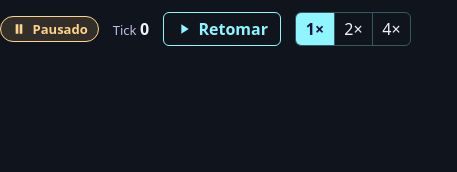
it: TimeControls › retomar e pausar pelo botão atuam no relógio, e a interface acompanha
The image size is (457, 172).
Click the button "Retomar".
click(222, 29)  # box [163,12,281,46]
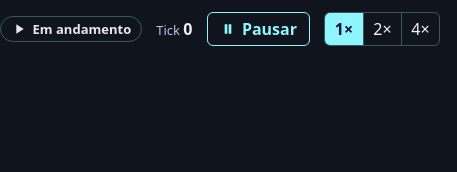
Result: the element with class "time-controls__status" reads "Em andamento" at [33,20,131,38]
Result: the button "Pausar" is shown
Click the button "Pausar".
click(258, 29)  # box [206,12,310,46]
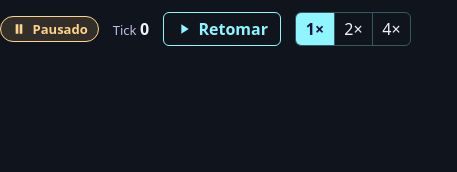
Result: the element with class "time-controls__status" reads "Pausado" at [33,20,88,38]
